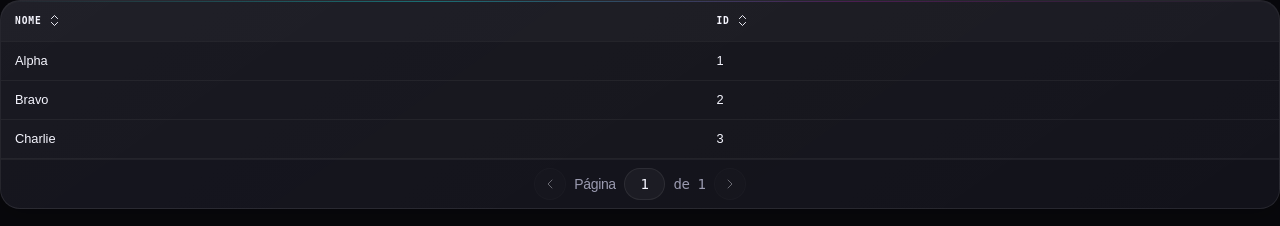
Scenario: INFRA-01: DataTable › clicar numa coluna ordenável ativa o indicador de sort (ChevronUp/Down)
The image size is (1280, 226).
Step 1. Click the column heading with class "data-table__head--sortable" showing "Nome" → (28, 20), box x1=1 y1=1 x2=702 y2=41
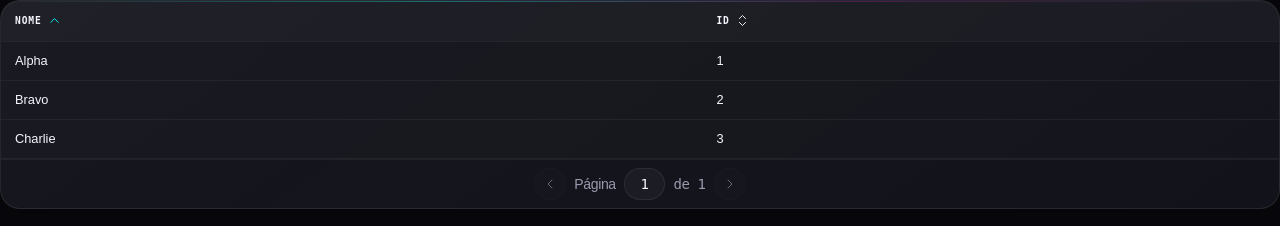
expect the icon with class "data-table__sort--active" is shown: met, box x1=47 y1=13 x2=62 y2=28
